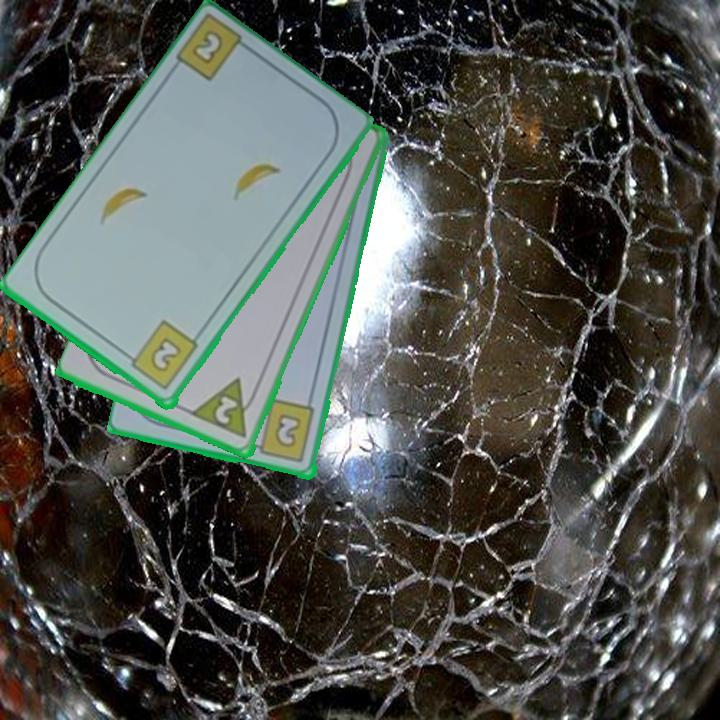2b: (121, 317, 202, 394), (247, 397, 318, 466), (188, 30, 223, 68)
2p: (189, 375, 263, 442)
